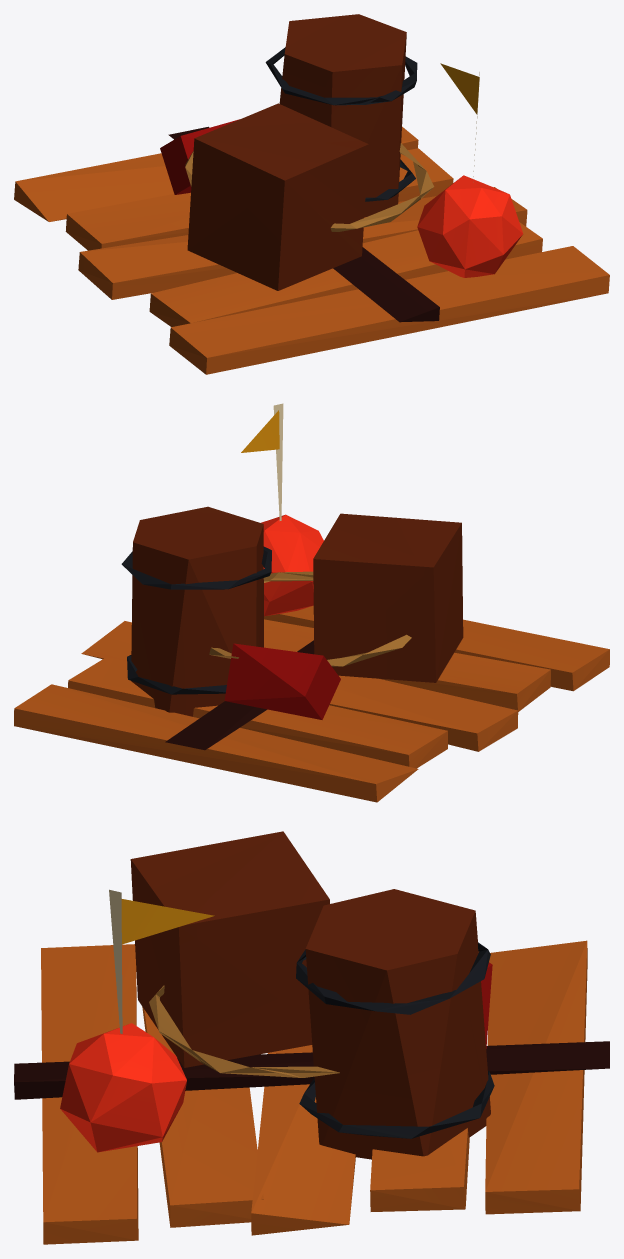
Rendered from floating_salvage.three-web-toon.lod25.glb.
3 renders of one model, top to bottom at view 1: azimuth 30°, elevation 25°; view 2: azimuth 150°, elevation 25°; view 3: azimuth 270°, elevation 25°, orthographic. The views are drawn at different scales.
Visible parts, largest first — view 1: floating_salvage_mesh_lod; view 2: floating_salvage_mesh_lod; view 3: floating_salvage_mesh_lod.
Part boxes in pixels (x1,y1,x2,y2): floating_salvage_mesh_lod: (14, 14, 609, 374); floating_salvage_mesh_lod: (14, 403, 609, 802); floating_salvage_mesh_lod: (14, 831, 609, 1244).
Size of the model in its own units: 2.45 by 1.29 by 2.4.
